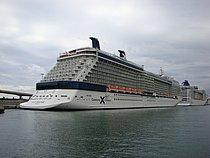Ship: (20, 33, 187, 115)
